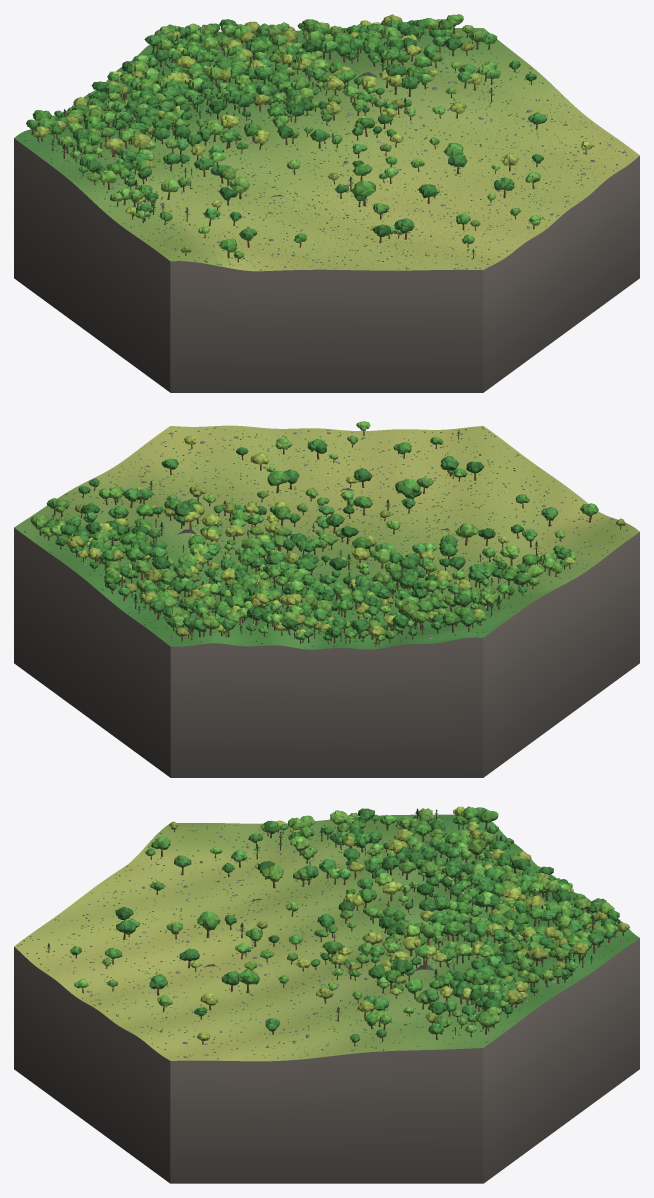
The picture shows the model from 3 angles, top to bottom: view 1: azimuth 30°, elevation 25°; view 2: azimuth 150°, elevation 25°; view 3: azimuth 270°, elevation 25°; orthographic projection.
Visible parts, largest first — view 1: hex_side_cut, terrain, broadleaf_canopy, shrubs, trunks, wildflowers, boulders, conifer_canopy; view 2: hex_side_cut, terrain, broadleaf_canopy, trunks, shrubs, conifer_canopy, boulders; view 3: hex_side_cut, terrain, broadleaf_canopy, shrubs, trunks, boulders, conifer_canopy.
Part boxes in pixels (left/top/right/bottom): hex_side_cut: left=14, top=138, right=639, bottom=392; terrain: left=14, top=28, right=639, bottom=271; broadleaf_canopy: left=26, top=14, right=593, bottom=258; shrubs: left=19, top=31, right=632, bottom=270; trunks: left=31, top=26, right=586, bottom=262; wildflowers: left=21, top=30, right=630, bottom=269; boulders: left=21, top=32, right=626, bottom=264; conifer_canopy: left=50, top=27, right=494, bottom=254; hex_side_cut: left=14, top=528, right=639, bottom=777; terrain: left=14, top=425, right=639, bottom=649; broadleaf_canopy: left=30, top=421, right=625, bottom=641; trunks: left=39, top=430, right=621, bottom=645; shrubs: left=23, top=427, right=627, bottom=648; conifer_canopy: left=52, top=430, right=546, bottom=640; boulders: left=37, top=432, right=603, bottom=646; hex_side_cut: left=14, top=938, right=639, bottom=1183; terrain: left=14, top=814, right=639, bottom=1061; broadleaf_canopy: left=70, top=806, right=629, bottom=1042; shrubs: left=17, top=816, right=627, bottom=1058; trunks: left=48, top=809, right=624, bottom=1046; boulders: left=37, top=828, right=623, bottom=1057; conifer_canopy: left=47, top=808, right=620, bottom=1031.
Size of the model in its own units: 4330 by 1415 by 5000.
